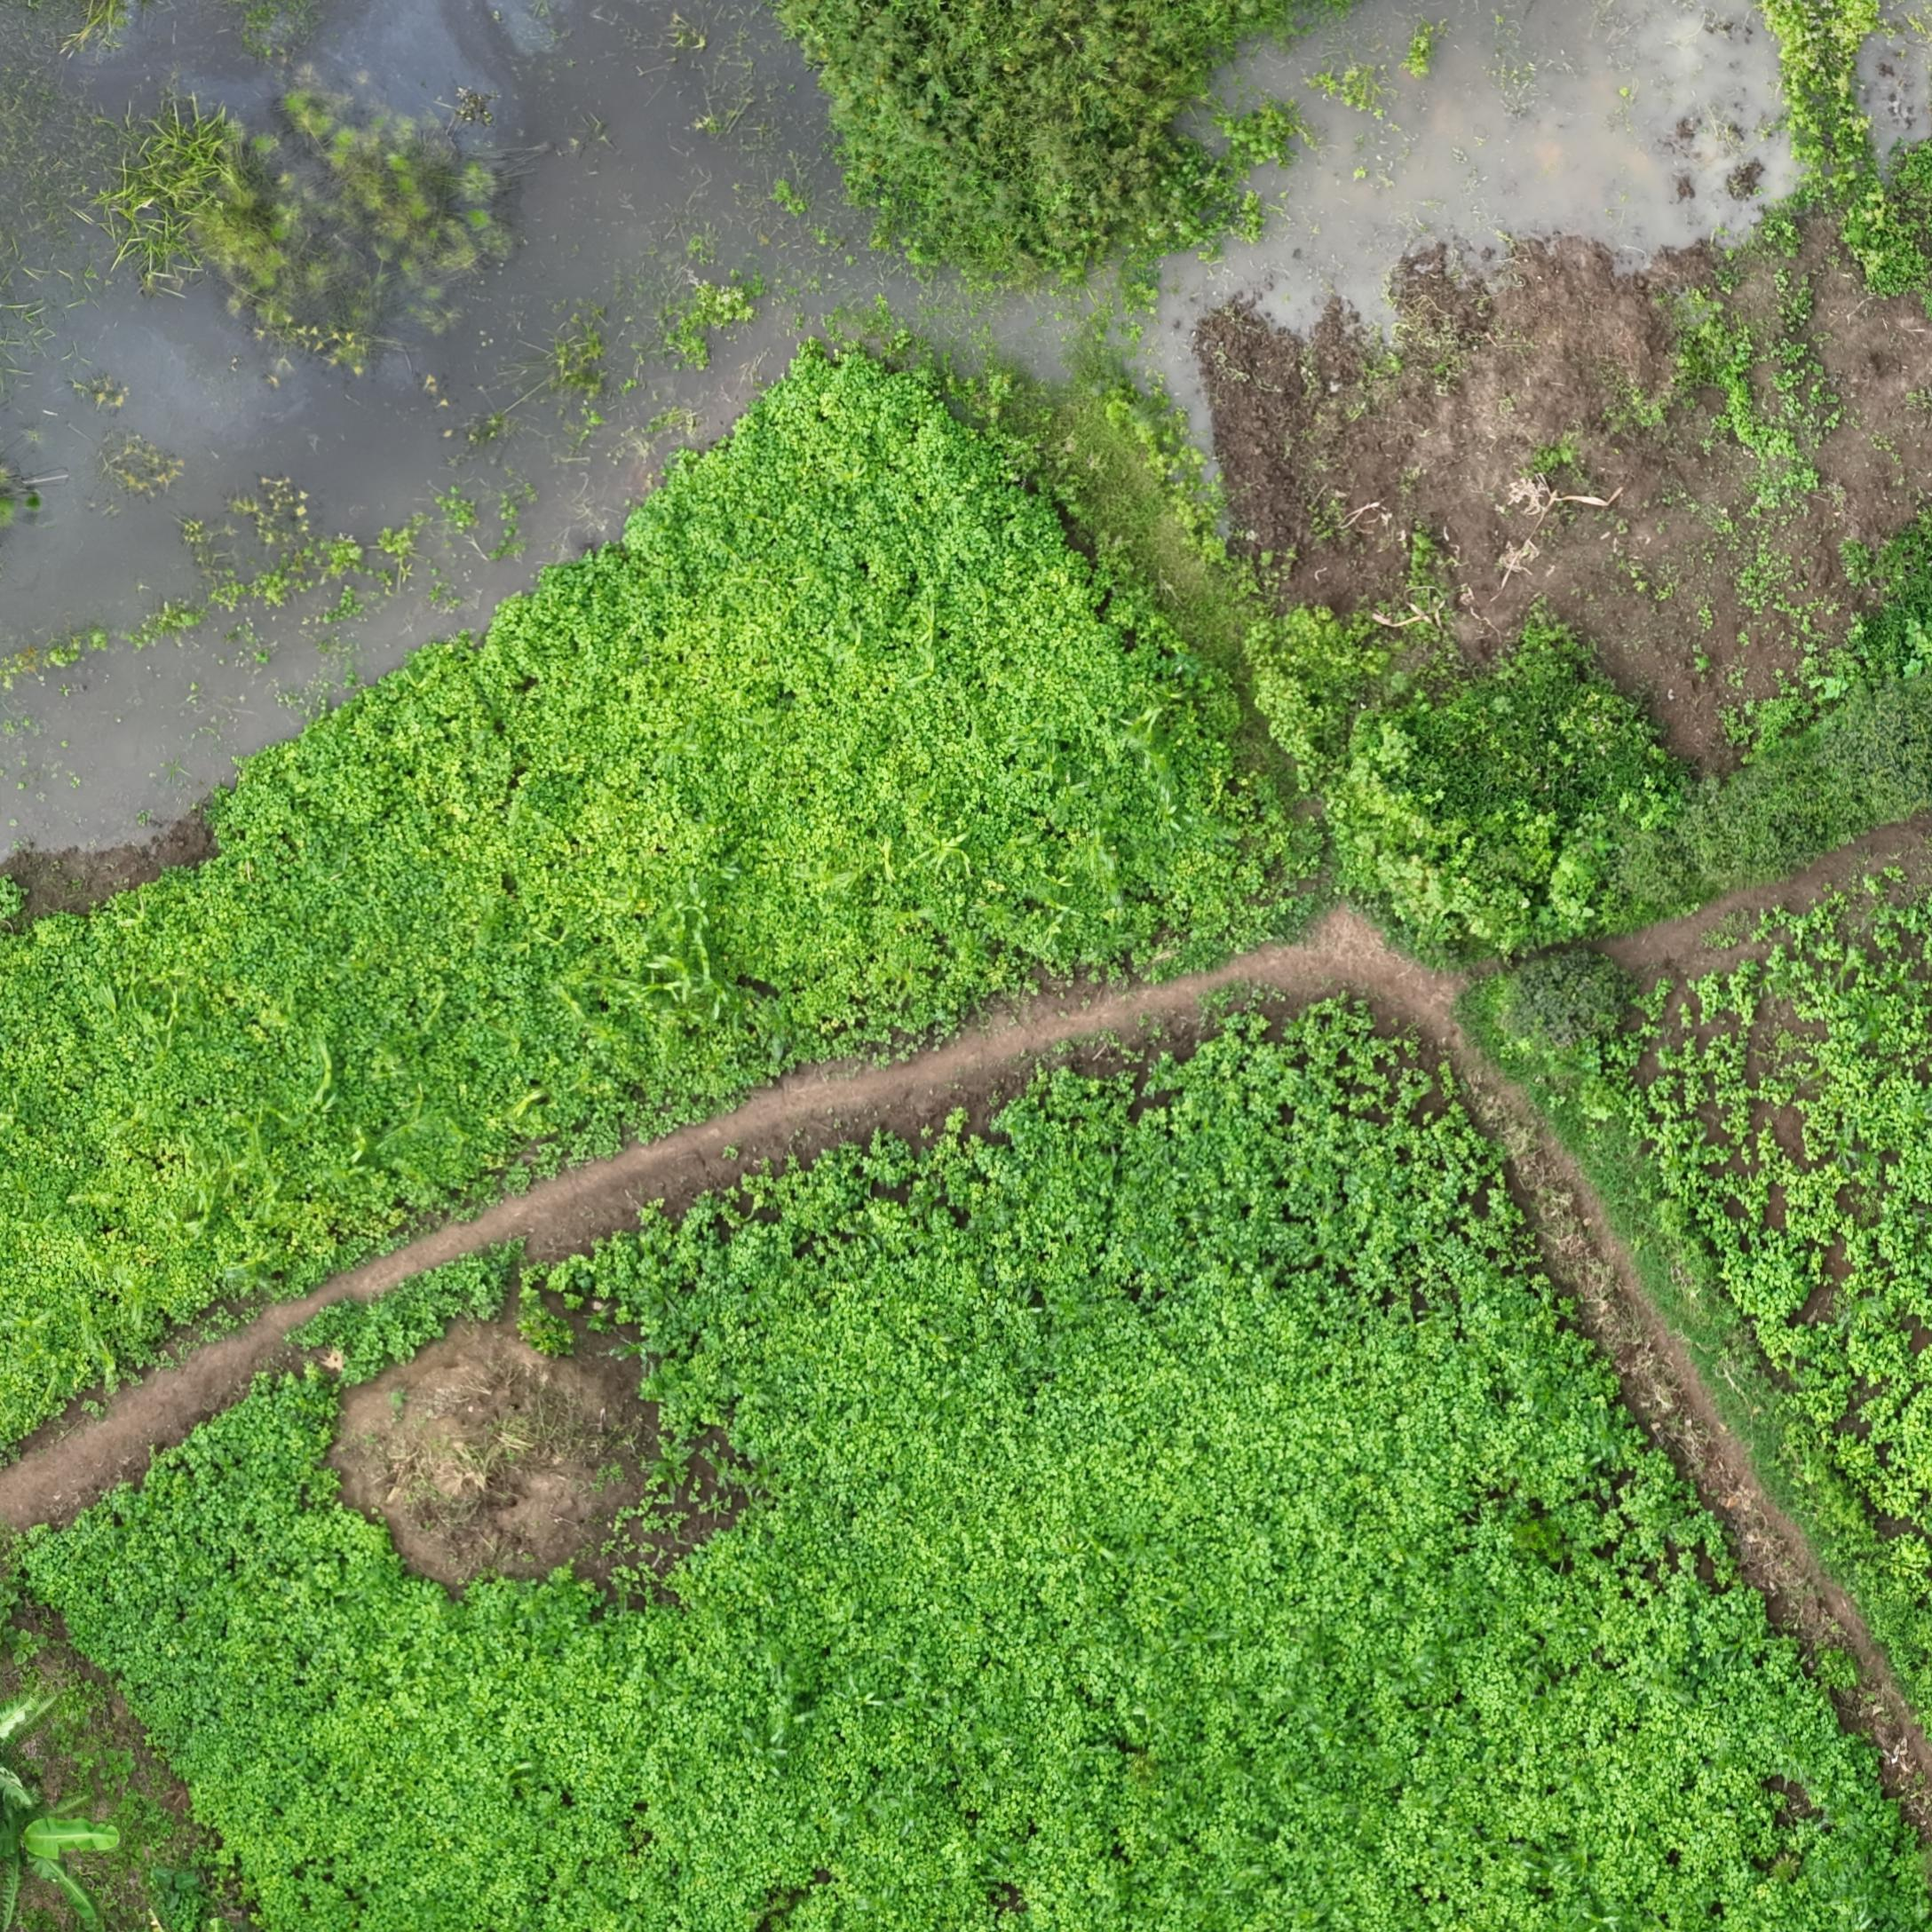Banana: (2, 1755, 57, 1897)
